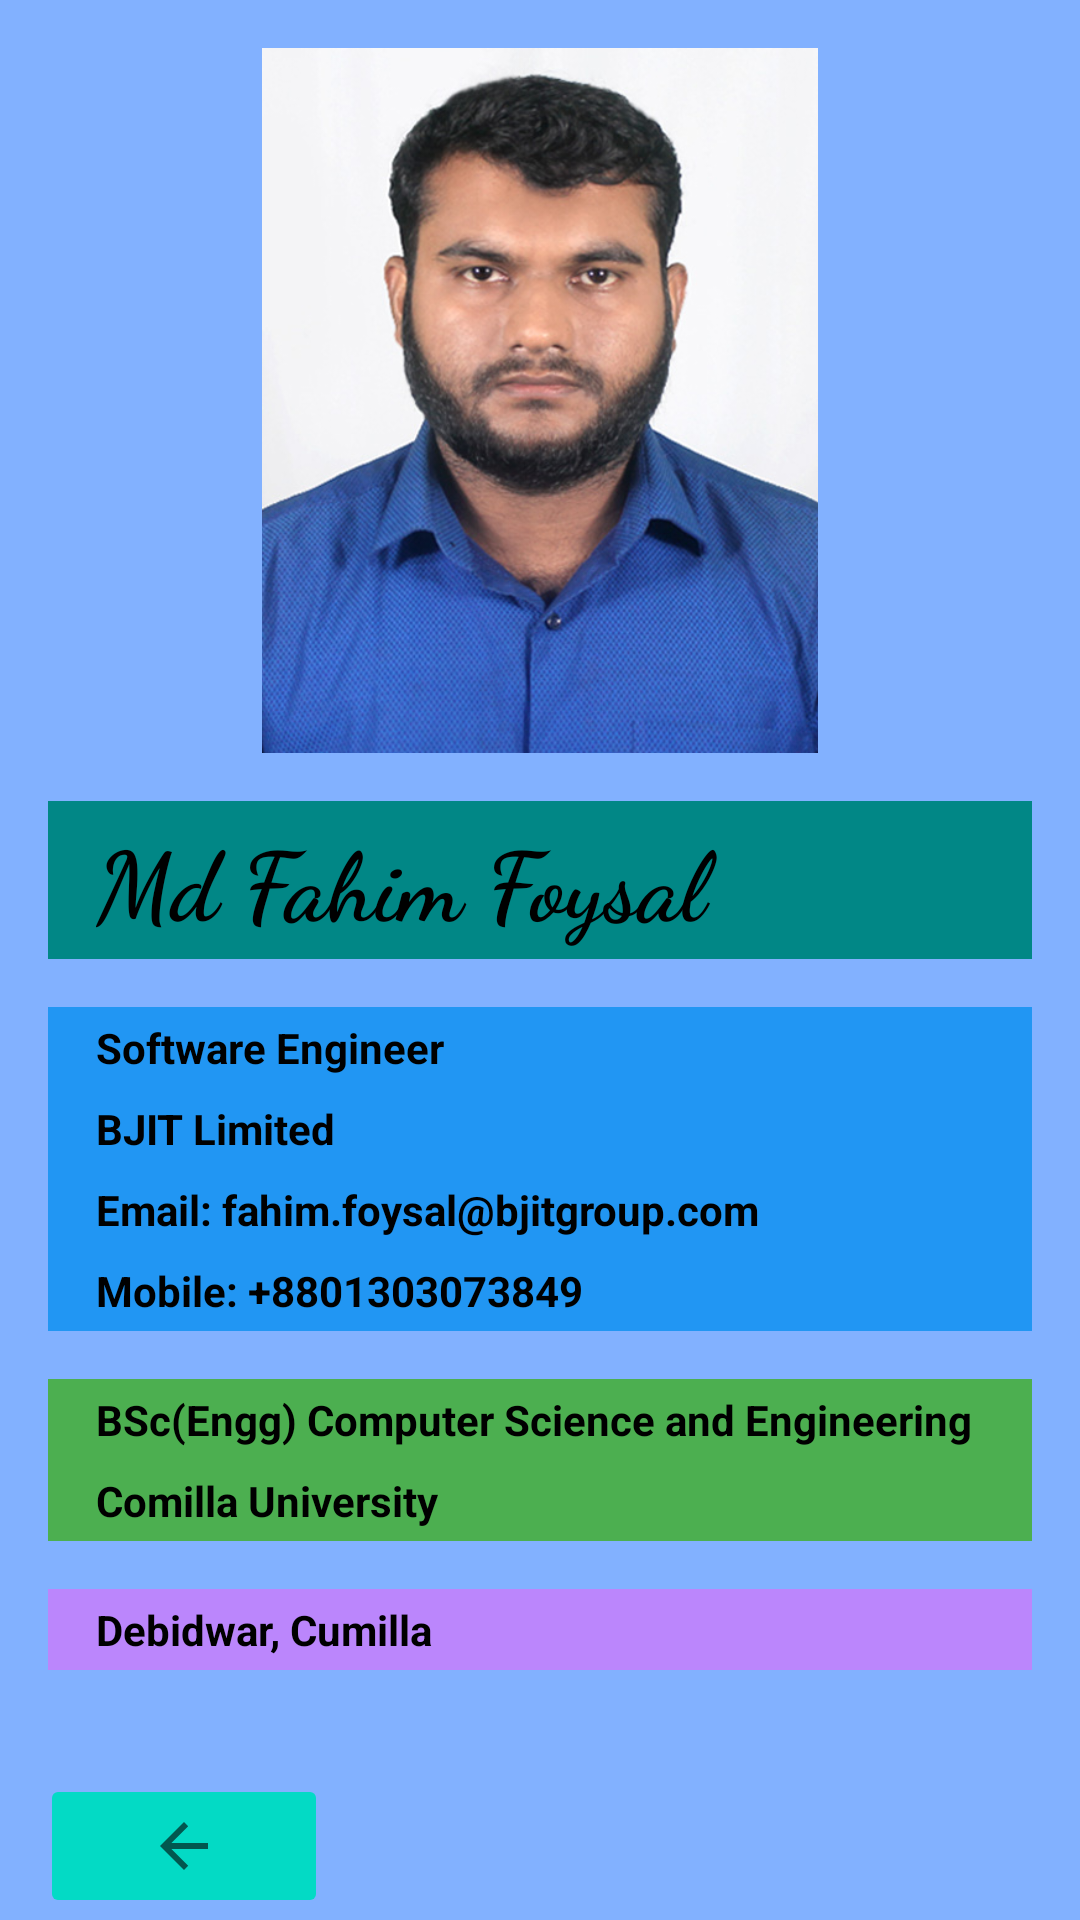

Screen size 1080×1920. Icon name, then its box in pixels as [x1,y1,x2,y2]:
Return: [52,1792,316,1900]
